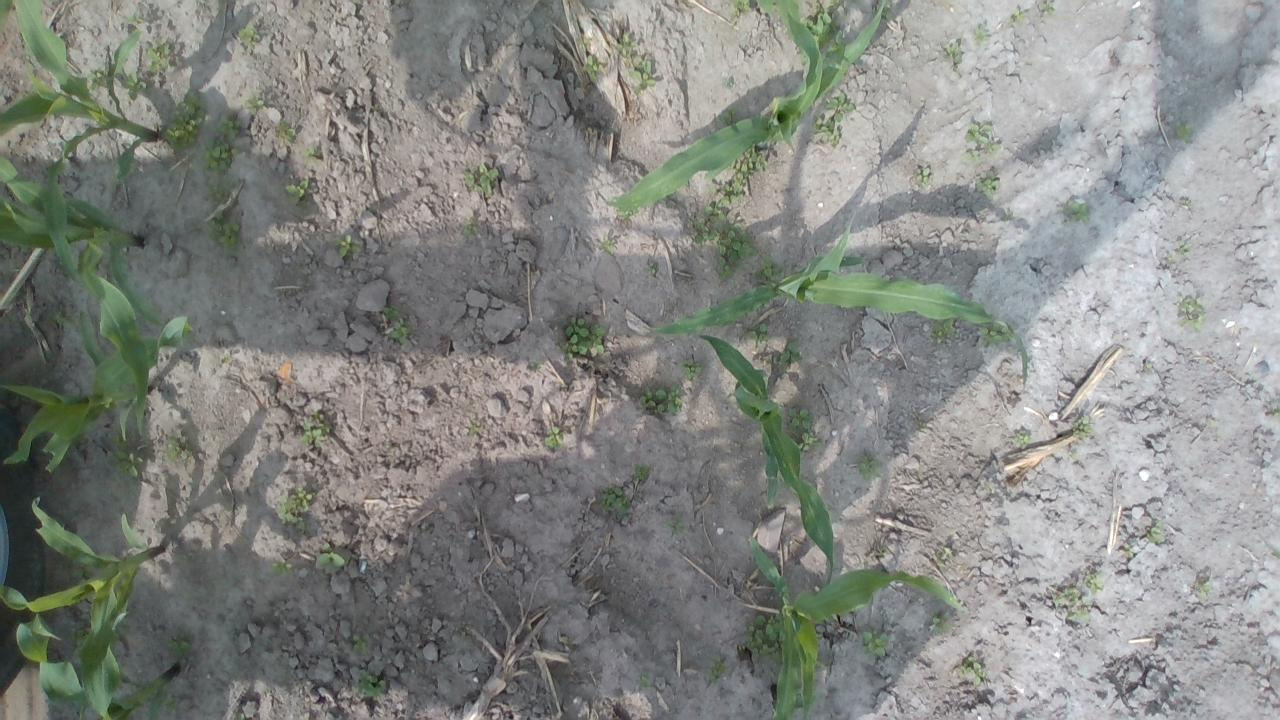Maize: (643, 210, 1030, 390), (603, 0, 888, 216), (0, 0, 164, 295), (0, 238, 197, 476), (744, 532, 972, 720), (0, 150, 196, 360), (688, 330, 838, 596), (0, 494, 167, 718), (12, 611, 181, 720)
Weeds: (694, 132, 787, 285), (614, 33, 660, 92), (198, 113, 242, 174), (811, 88, 854, 146), (205, 188, 242, 253), (562, 318, 609, 366), (742, 614, 789, 661), (88, 69, 152, 101), (782, 402, 818, 456), (168, 97, 203, 151), (1048, 586, 1093, 626), (805, 12, 846, 50), (107, 446, 149, 481), (638, 389, 688, 418), (378, 306, 412, 348), (962, 118, 994, 160), (464, 165, 501, 197), (274, 492, 312, 523), (300, 414, 329, 449), (142, 44, 170, 78), (961, 651, 987, 687), (862, 628, 894, 657), (1177, 297, 1205, 330), (166, 439, 197, 468), (331, 233, 362, 261), (940, 38, 964, 74), (355, 672, 387, 698), (236, 22, 262, 52), (578, 57, 606, 84), (284, 176, 308, 204), (600, 487, 624, 514), (975, 326, 1011, 344), (736, 0, 774, 17), (1064, 206, 1092, 229), (854, 454, 880, 478), (780, 339, 804, 362), (315, 550, 343, 569), (245, 92, 265, 118), (932, 317, 952, 343), (930, 611, 957, 630), (910, 164, 931, 188), (1118, 534, 1138, 558), (972, 21, 992, 44), (746, 324, 769, 344), (978, 175, 1004, 192), (1194, 582, 1216, 602), (684, 360, 700, 387), (351, 633, 373, 652), (1074, 414, 1090, 439), (544, 426, 562, 448), (1174, 122, 1192, 144), (272, 558, 294, 576), (599, 234, 617, 253), (636, 672, 654, 690), (666, 519, 684, 537), (1086, 573, 1103, 592), (709, 656, 723, 679), (632, 464, 652, 480), (124, 8, 144, 23), (1038, 0, 1058, 15), (1148, 524, 1162, 544), (1012, 430, 1029, 446), (1008, 4, 1025, 19), (280, 126, 298, 140), (462, 218, 475, 236), (306, 144, 322, 158), (648, 258, 661, 274)
